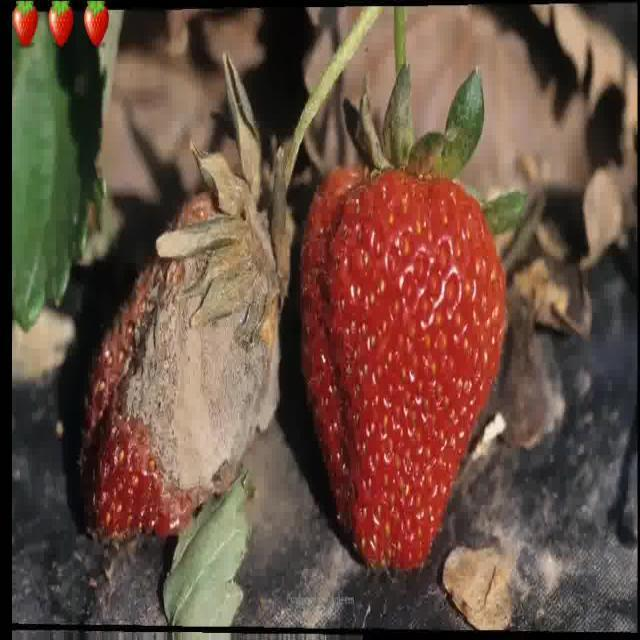Moho gris: (72, 163, 291, 537)
